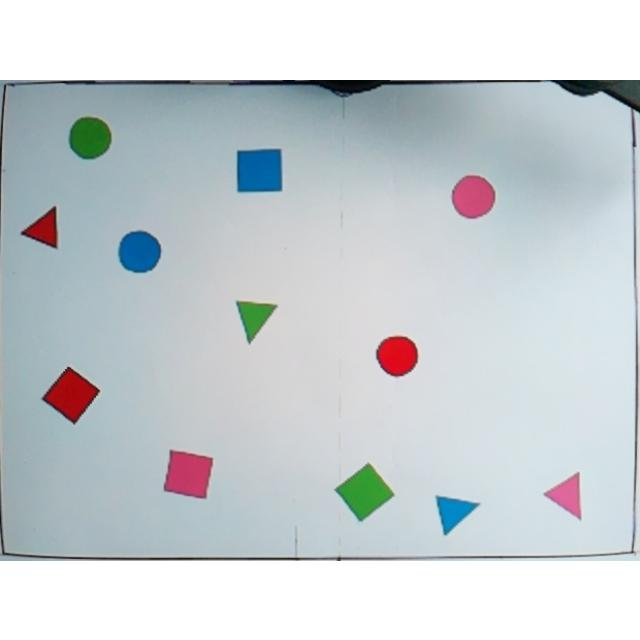blueCircle: (116, 226, 164, 274)
blueSquare: (235, 146, 287, 194)
blueTriangle: (434, 490, 482, 538)
greenCircle: (66, 112, 114, 160)
greenSquare: (332, 458, 398, 524)
greenTriangle: (232, 296, 282, 348)
pinkCircle: (448, 172, 498, 216)
pinkSquare: (161, 447, 215, 499)
pinkTriangle: (542, 468, 586, 520)
redCircle: (374, 334, 422, 378)
redSquare: (40, 364, 102, 424)
redTriangle: (19, 203, 63, 250)
